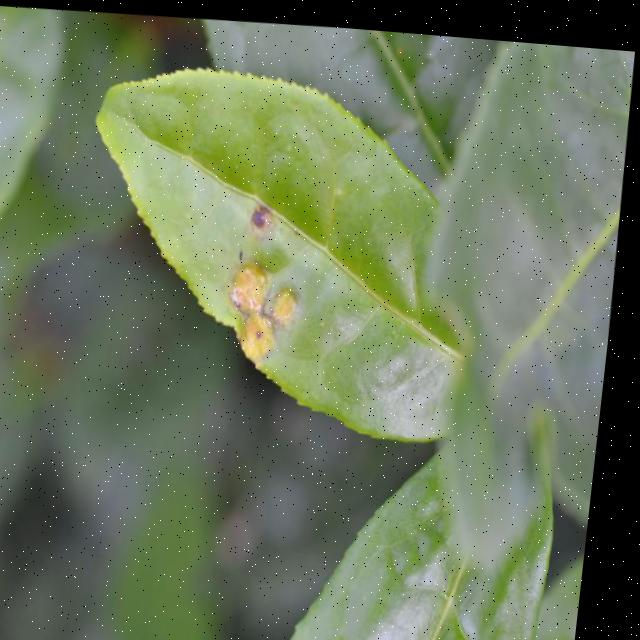Tea cake: (228, 243, 317, 366), (246, 182, 300, 241)
